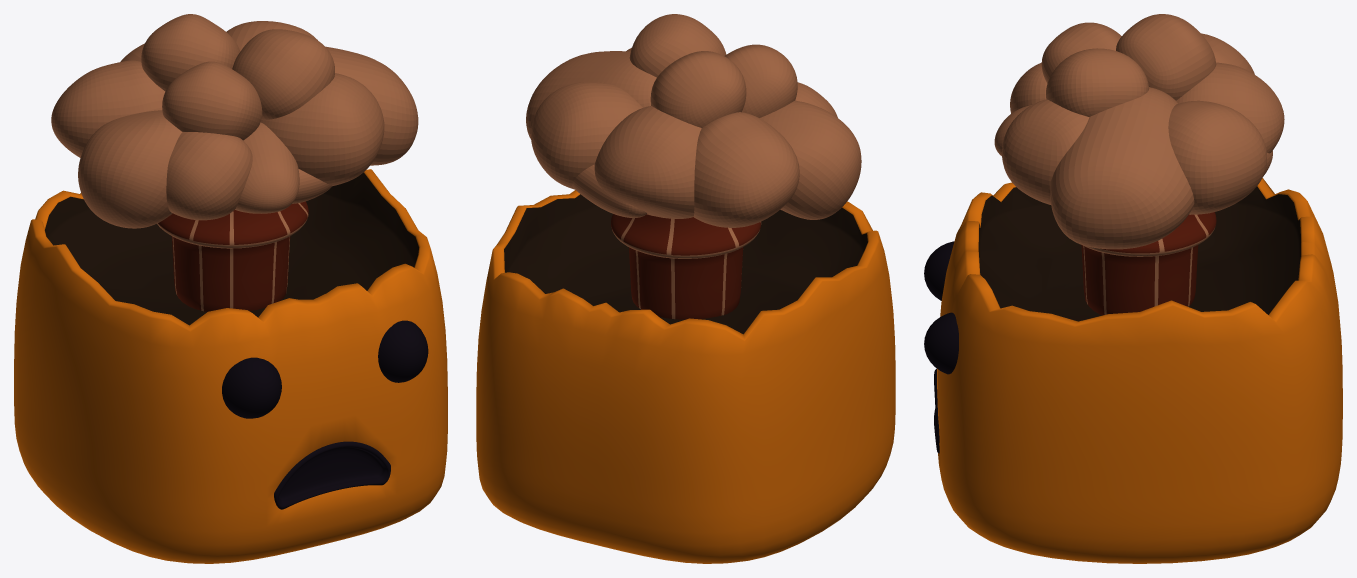
Rendered from Emoji 067 exploding head.fbx.
3 views of the same model, side by side, from view 1: azimuth 30°, elevation 25°; view 2: azimuth 150°, elevation 25°; view 3: azimuth 270°, elevation 25° (orthographic). The views are drawn at different scales.
Visible parts, largest first — view 1: Emoji 067 exploding head, Cube.126, Cylinder.027, Eyes.088, Cube.123; view 2: Emoji 067 exploding head, Cube.126, Cylinder.027; view 3: Emoji 067 exploding head, Cube.126, Cylinder.027, Eyes.088.
Part boxes in pixels (box(x1,y1,x2,y2)): Emoji 067 exploding head: box(14, 169, 447, 563); Cube.126: box(51, 14, 418, 228); Cylinder.027: box(157, 201, 308, 311); Eyes.088: box(222, 320, 428, 418); Cube.123: box(274, 441, 390, 509); Emoji 067 exploding head: box(476, 190, 895, 563); Cube.126: box(526, 14, 861, 227); Cylinder.027: box(611, 214, 761, 319); Emoji 067 exploding head: box(937, 178, 1342, 563); Cube.126: box(994, 14, 1284, 249); Cylinder.027: box(1081, 212, 1216, 315); Eyes.088: box(924, 241, 958, 374).
Size of the model in its own units: 95.83 by 103 by 128.
